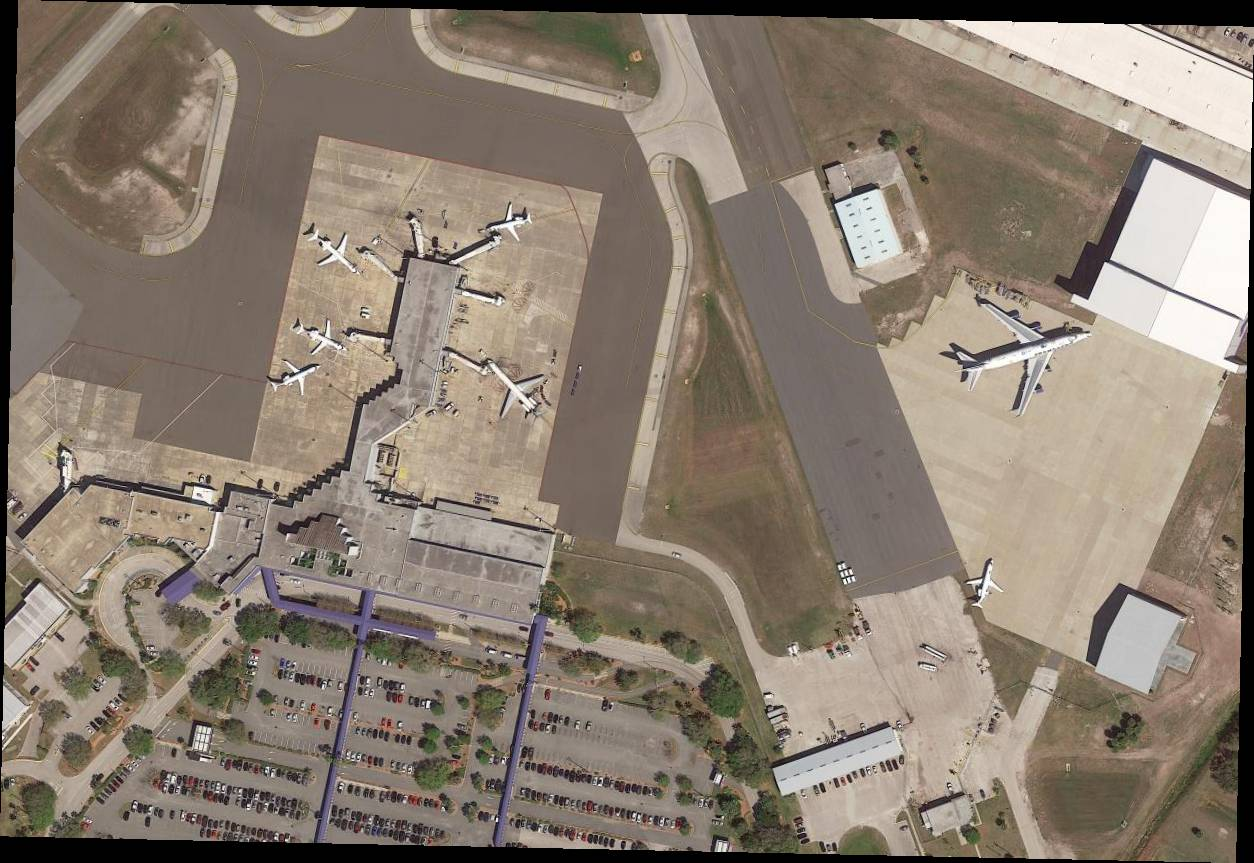plane: (940, 275, 1107, 429), (469, 340, 561, 437), (300, 218, 372, 291), (289, 307, 357, 368), (265, 349, 327, 404), (962, 553, 1012, 616), (483, 197, 538, 248)
small vehicle: (279, 657, 288, 670)
